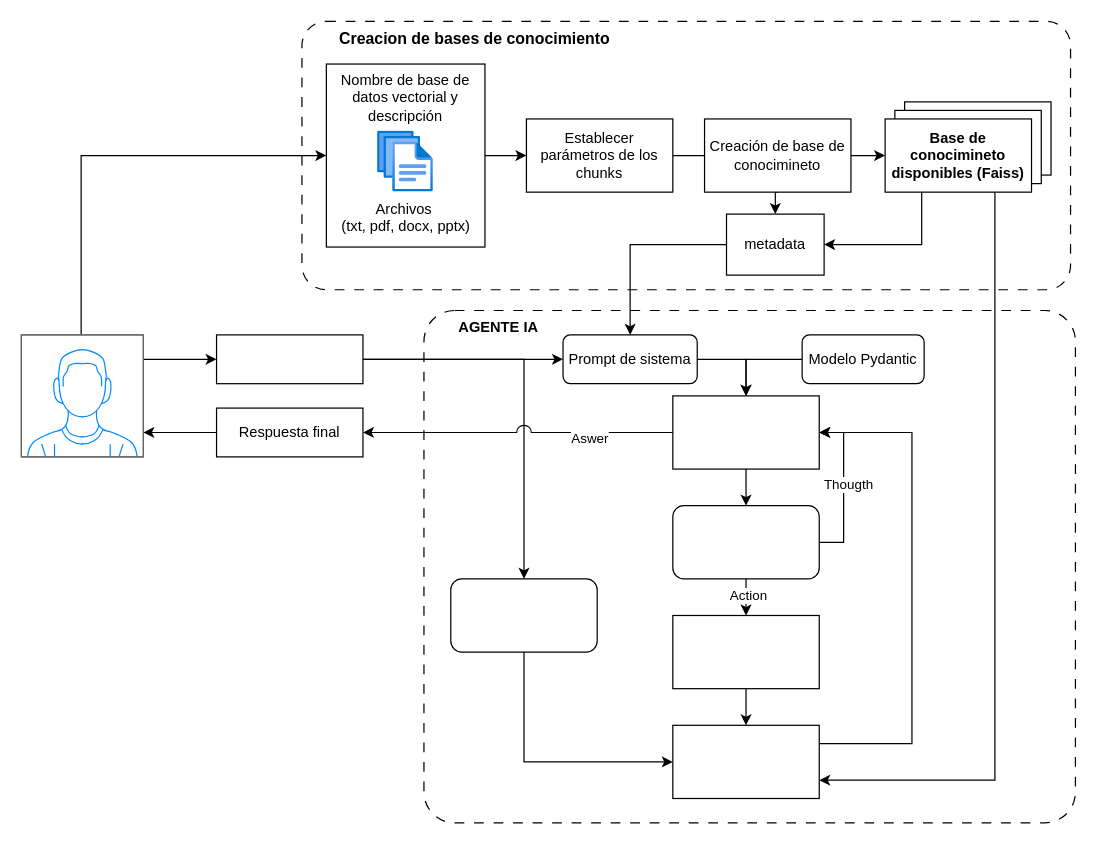
This 1097x844 diagram has some shape labels left out. Here are the shapes that lost their labels. From the top down, the centre of each, then its label:
At [289,359]: "Pregunta del usuario".
At [745,432]: "OpenAI con salida estructurada".
At [745,541]: "Estados posibles: Analizar (thought) Actuar (action) Responder (answer)".
At [523,615]: "Contextualizar pregunta con el historial".
At [745,651]: "Seleccionar fuente de la información".
At [745,761]: "Recuperar información de la base de conocimiento".
